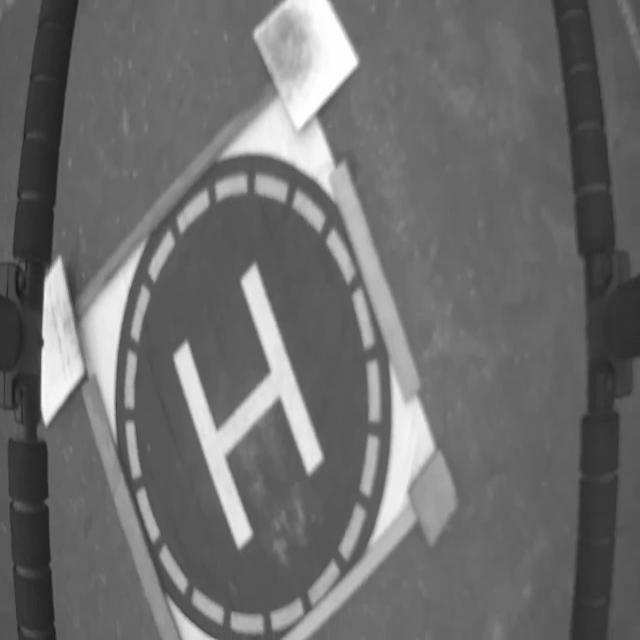Helipad: (174, 263, 325, 551)
